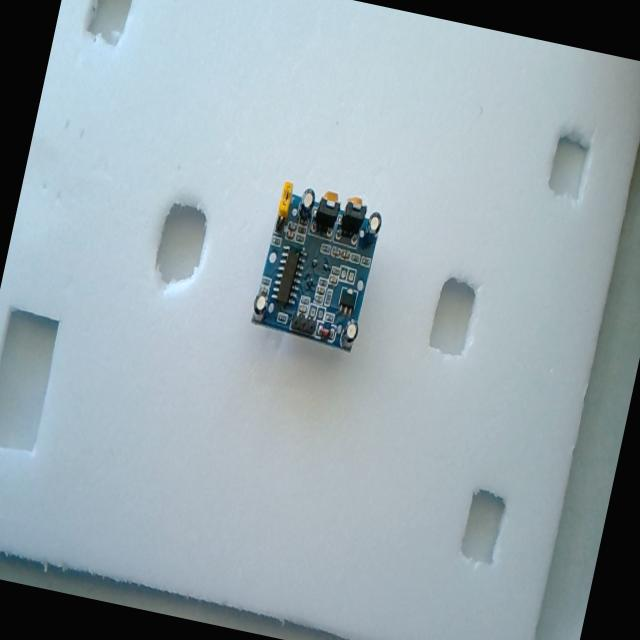Electrolytic capacitor: (358, 208, 382, 248), (296, 184, 318, 222), (338, 317, 360, 350), (251, 290, 270, 321)
IC: (269, 242, 307, 310)
pinheader: (286, 306, 320, 338)
